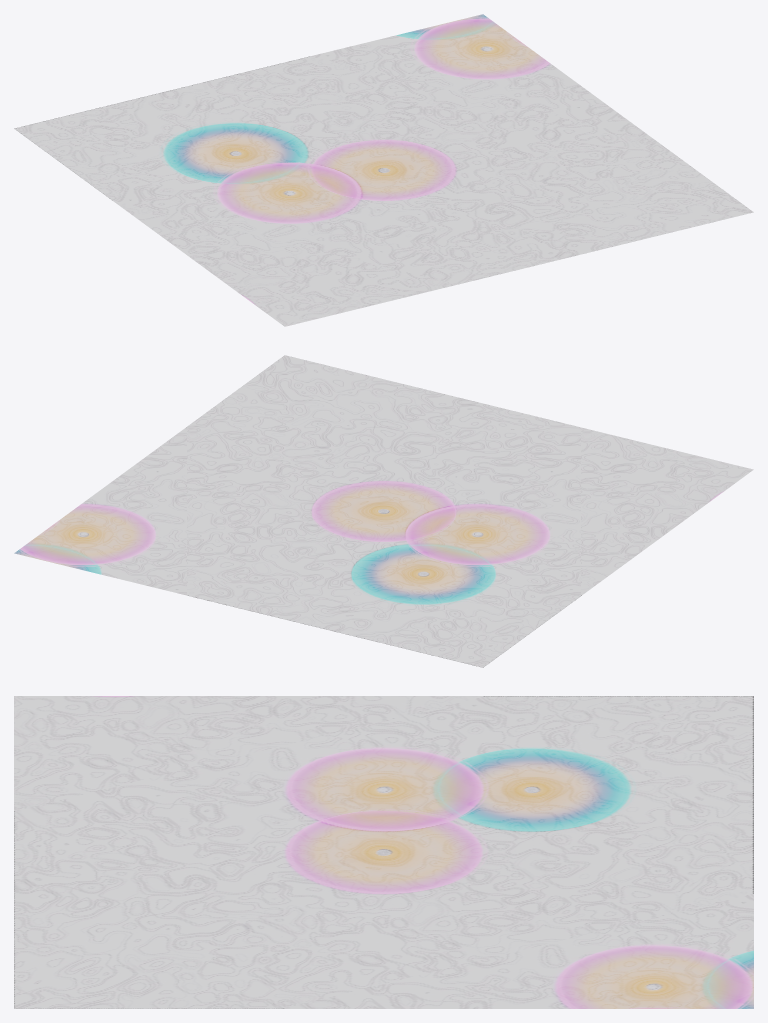
Rendered from out_map.glb.
The picture shows the model from 3 angles, top to bottom: view 1: azimuth 30°, elevation 25°; view 2: azimuth 150°, elevation 25°; view 3: azimuth 270°, elevation 25°; orthographic projection. The views are drawn at different scales.
Parts seen in each view (by area): view 1: out_map; view 2: out_map; view 3: out_map.
Part boxes in pixels (left/top/right/bottom): out_map: left=14, top=14, right=753, bottom=326; out_map: left=14, top=355, right=753, bottom=667; out_map: left=14, top=696, right=753, bottom=1008.
Size of the model in its own units: 15000 by 0 by 15000.
Materials: 1 (1 with a texture image).
